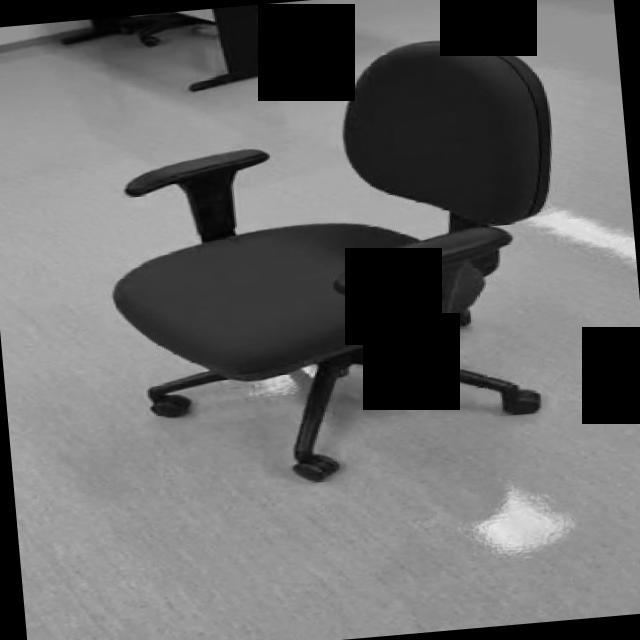chair: (92, 29, 584, 500)
